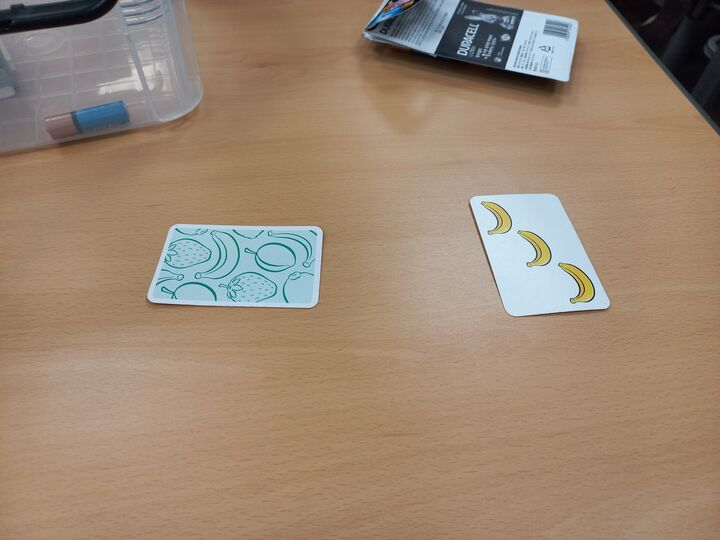banana3: (468, 193, 613, 316)
